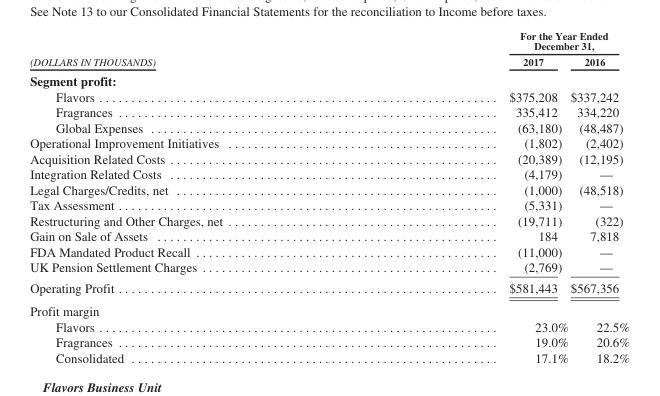table: (29, 29, 629, 364)
table column: (29, 29, 365, 364), (365, 29, 568, 364), (568, 29, 629, 364)
table column header: (29, 29, 629, 70)
table projected row header: (29, 299, 629, 318), (29, 70, 629, 88)
table row: (29, 29, 629, 53), (29, 277, 629, 299), (29, 299, 629, 318), (29, 70, 629, 88), (29, 259, 629, 277), (29, 53, 629, 70), (29, 88, 629, 104), (29, 119, 629, 135), (29, 150, 629, 166), (29, 181, 629, 197), (29, 212, 629, 228), (29, 243, 629, 259), (29, 318, 629, 334), (29, 104, 629, 119), (29, 135, 629, 150), (29, 166, 629, 181), (29, 197, 629, 212), (29, 228, 629, 243), (29, 334, 629, 349), (29, 349, 629, 364)
table spanning cell: (29, 29, 365, 70), (365, 29, 629, 53)
